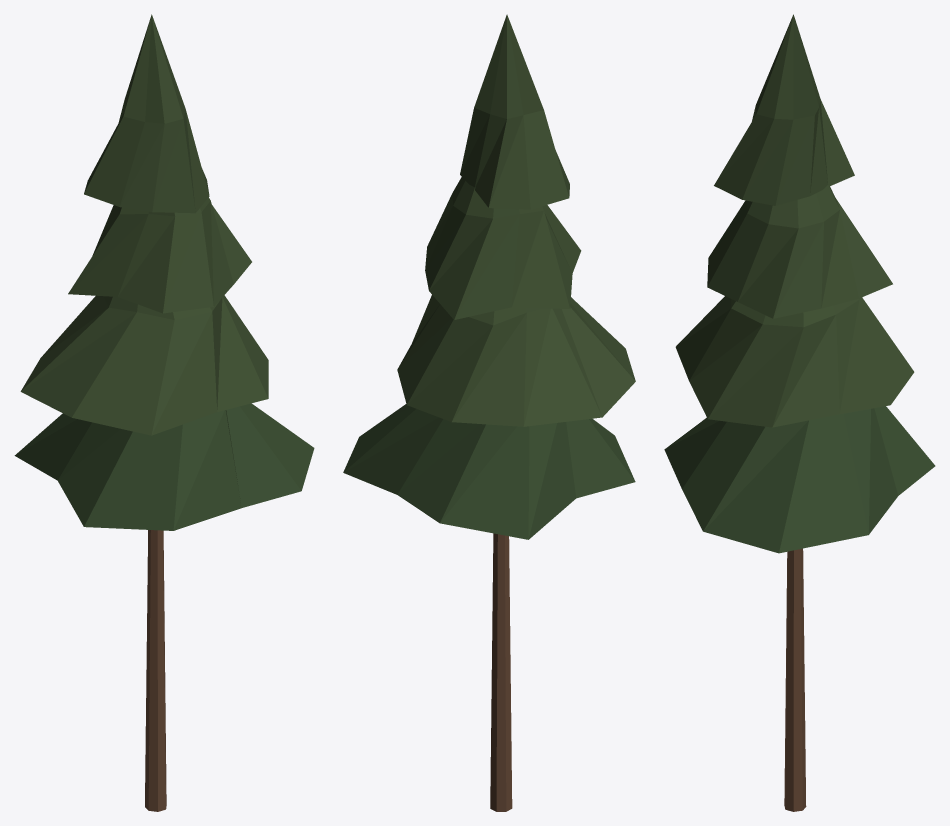
Rendered from conifer_pine.glb.
3 views of the same model, side by side, from view 1: azimuth 30°, elevation 25°; view 2: azimuth 150°, elevation 25°; view 3: azimuth 270°, elevation 25° (orthographic).
Parts seen in each view (by area): view 1: conifer_pine; view 2: conifer_pine; view 3: conifer_pine.
Part boxes in pixels (box(x1,y1,x2,y2)): conifer_pine: box(14, 14, 314, 811); conifer_pine: box(343, 14, 635, 811); conifer_pine: box(664, 14, 935, 811).
Size of the model in its own units: 5.13 by 14.5 by 4.51.
